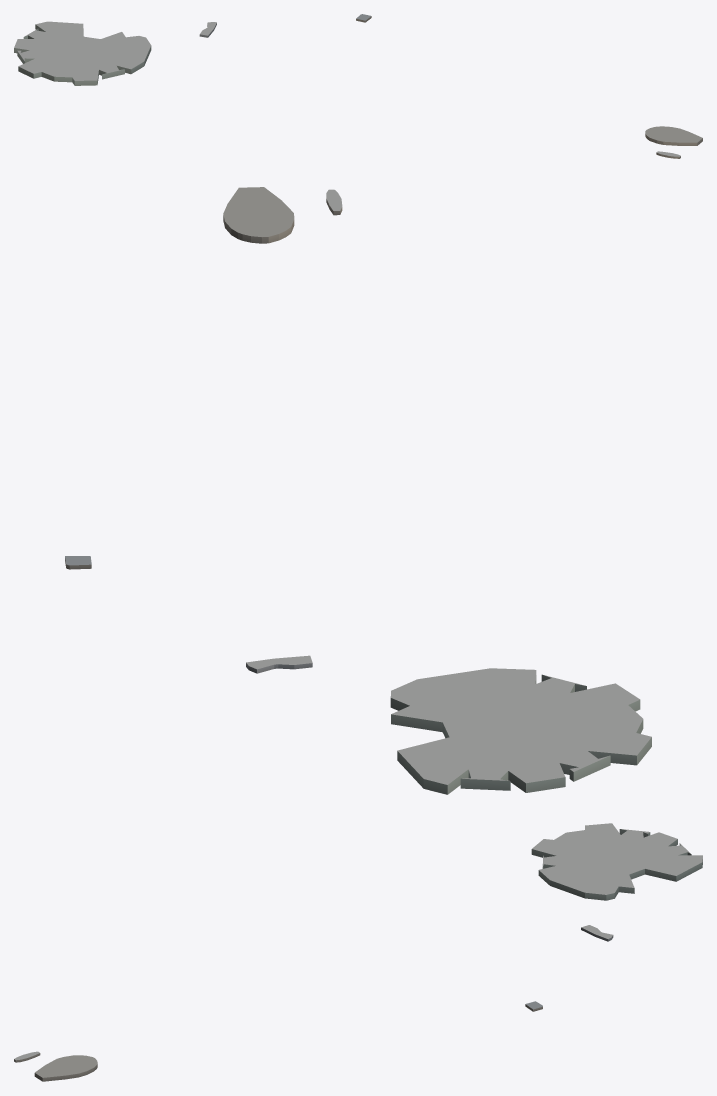
The model's file is bld_14_1.fbx.
3 views of the same model, one above another, from view 1: azimuth 30°, elevation 25°; view 2: azimuth 150°, elevation 25°; view 3: azimuth 270°, elevation 25° (orthographic). The views are drawn at different scales.
Visible parts, largest first — view 1: bld_14_1_LOD0; view 2: bld_14_1_LOD0; view 3: bld_14_1_LOD0.
Boxes of the visible parts, x1=… form: bld_14_1_LOD0: x1=14, y1=14, x2=702, y2=158; bld_14_1_LOD0: x1=65, y1=187, x2=651, y2=794; bld_14_1_LOD0: x1=14, y1=823, x2=702, y2=1081.
Size of what is drawn, in the model's own units: 1854 by 19.77 by 2136.
